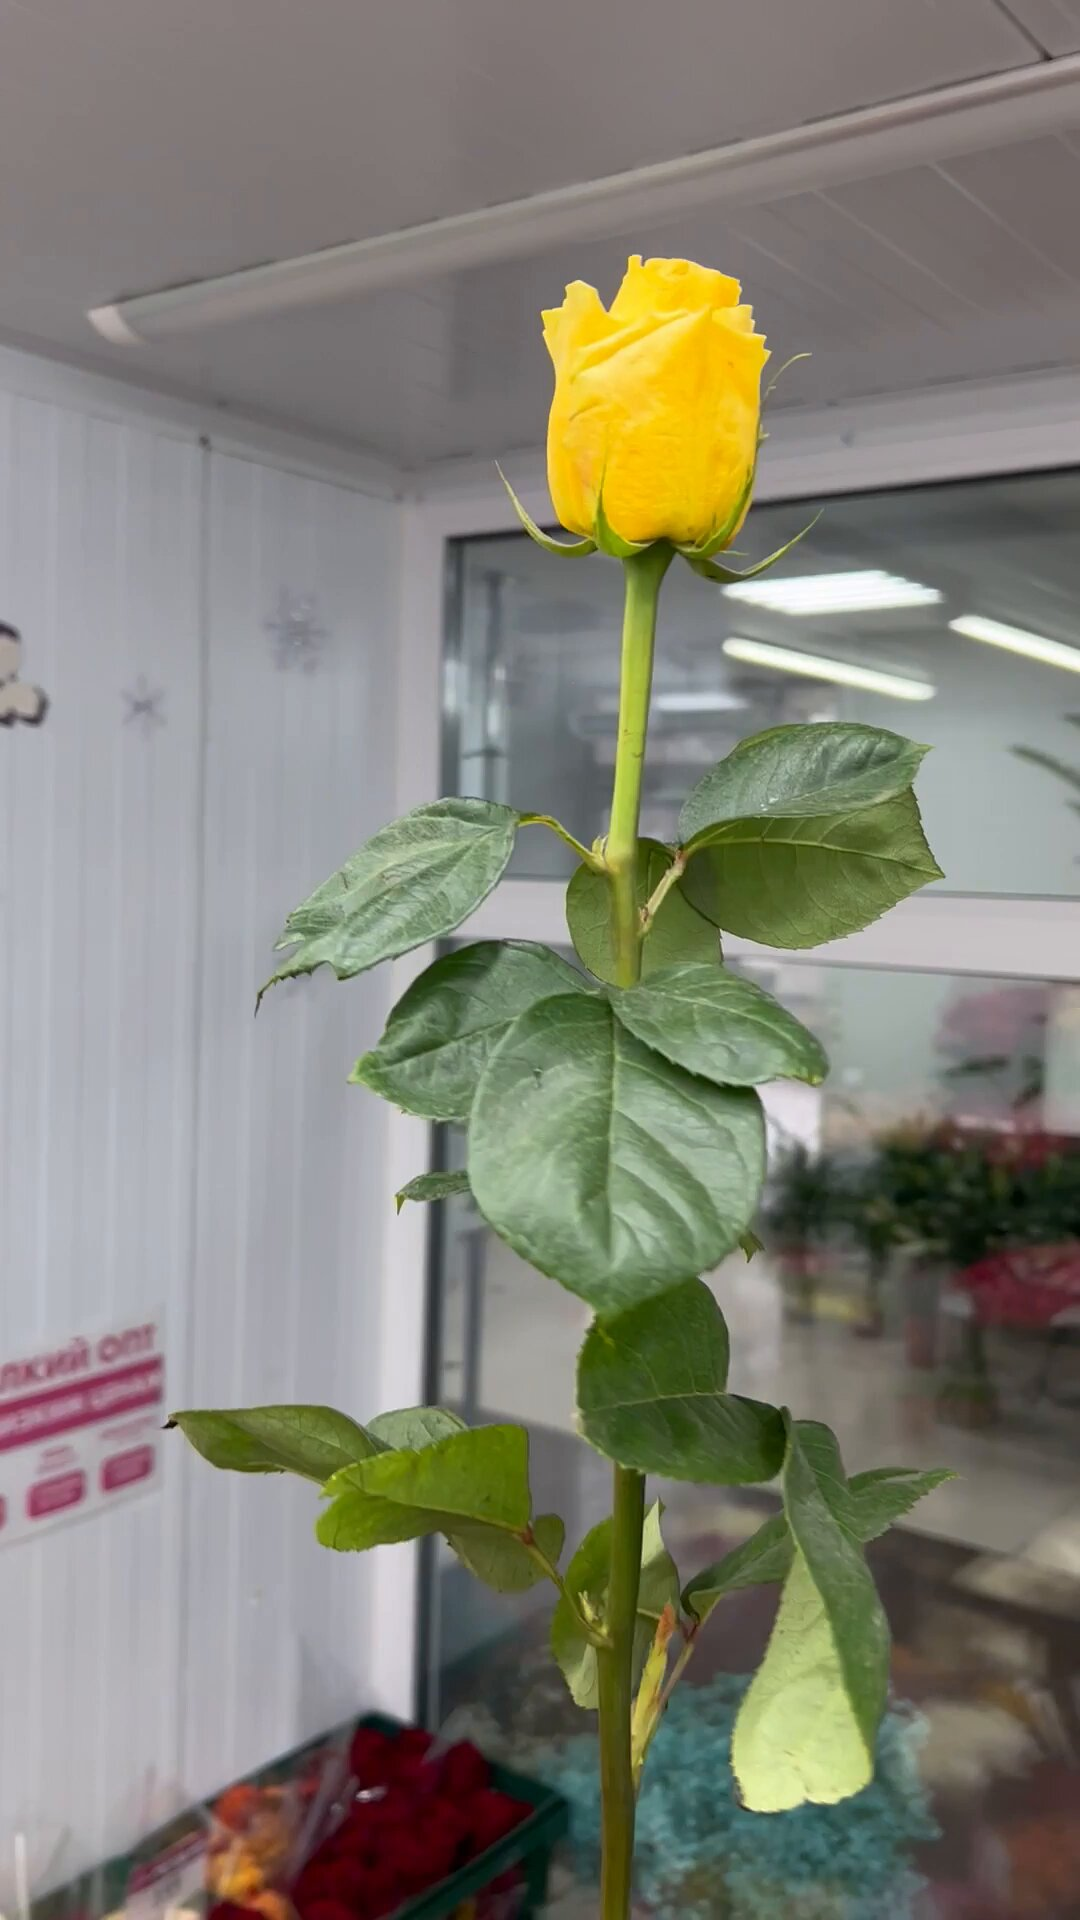rose: (310, 229, 975, 1875)
